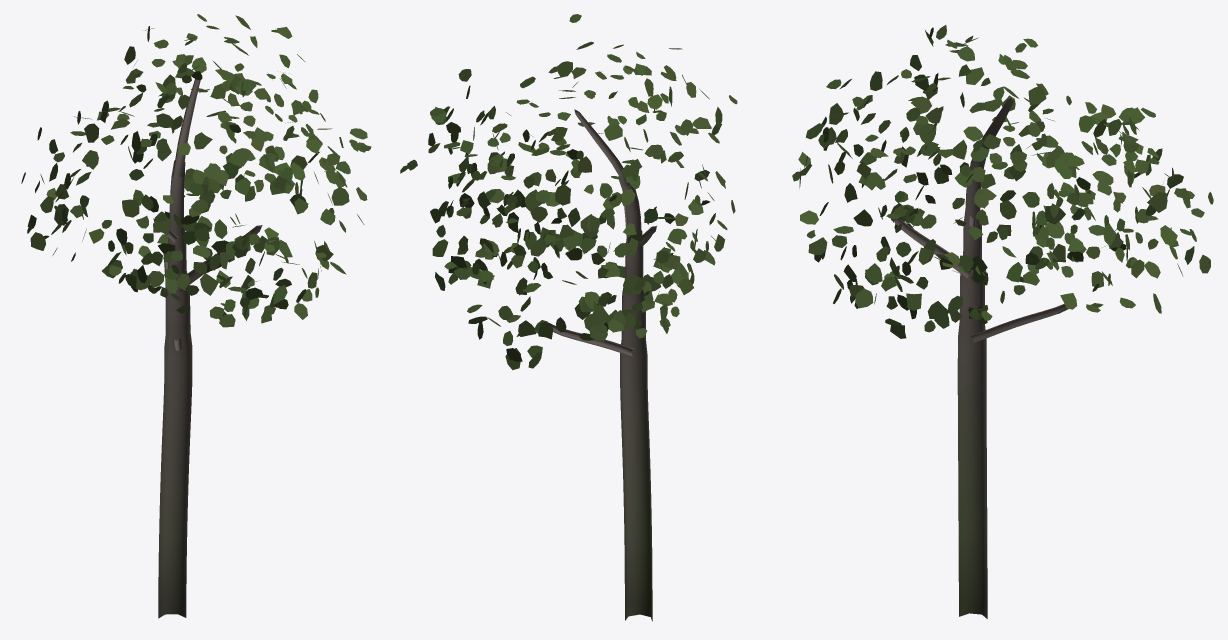
File: SM_TreeFar_rowan_2.glb
3 renders of one model, left to right at view 1: azimuth 30°, elevation 25°; view 2: azimuth 150°, elevation 25°; view 3: azimuth 270°, elevation 25°, orthographic. The views are drawn at different scales.
Parts seen in each view (by area): view 1: SM_TreeFar_rowan_2; view 2: SM_TreeFar_rowan_2; view 3: SM_TreeFar_rowan_2.
Boxes of the visible parts, bbox=[...] form: SM_TreeFar_rowan_2: bbox=[21, 14, 371, 618]; SM_TreeFar_rowan_2: bbox=[400, 14, 737, 621]; SM_TreeFar_rowan_2: bbox=[792, 25, 1213, 618].
Bounding box in the file's own units: 4.29 × 8.32 × 5.16.
